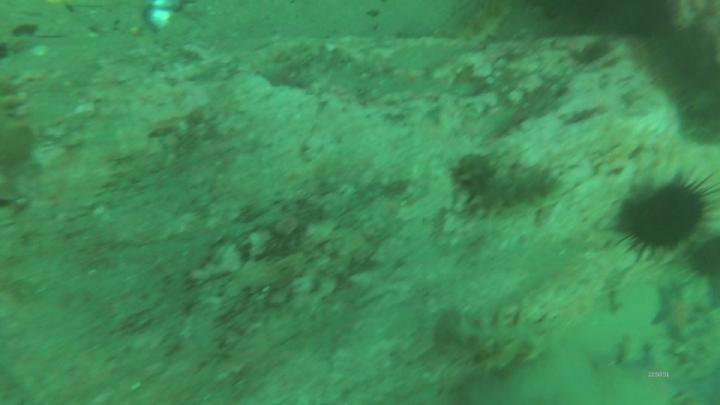echinus: (620, 172, 720, 266), (690, 229, 720, 282)
holothurian: (434, 299, 558, 369), (452, 152, 568, 219)
starfish: (652, 278, 702, 343)
